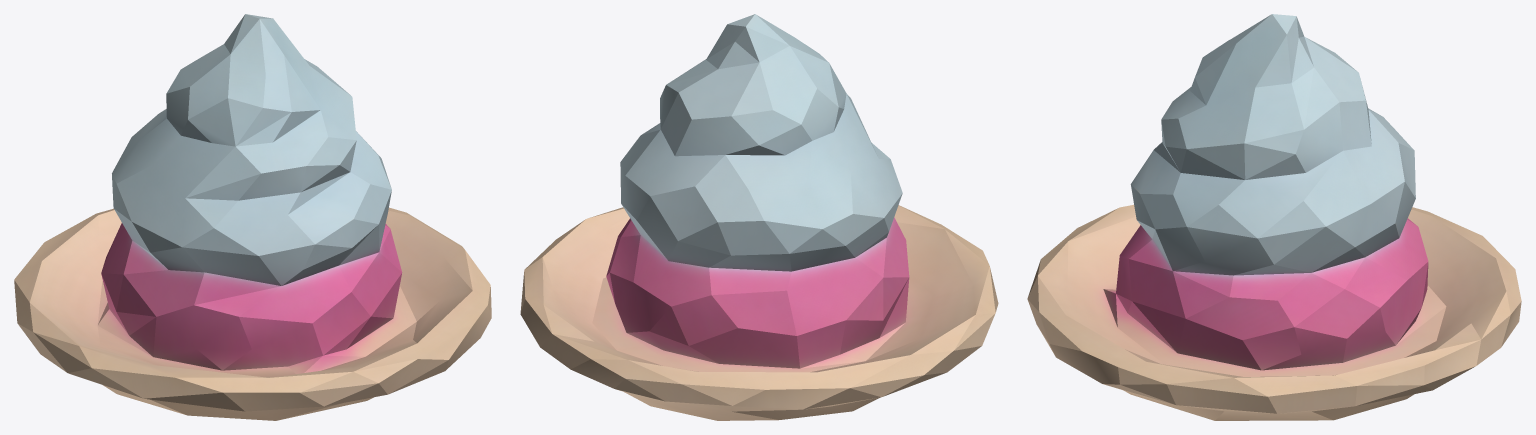
3 views of the same model, side by side, from view 1: azimuth 30°, elevation 25°; view 2: azimuth 150°, elevation 25°; view 3: azimuth 270°, elevation 25° (orthographic). The views are drawn at different scales.
Parts seen in each view (by area): view 1: model; view 2: model; view 3: model.
Part boxes in pixels (left/top/right/bottom): model: left=14, top=14, right=491, bottom=420; model: left=520, top=14, right=998, bottom=420; model: left=1027, top=14, right=1521, bottom=420.
Size of the model in its own units: 186 by 144 by 188.
Materials: 1 (1 with a texture image).
